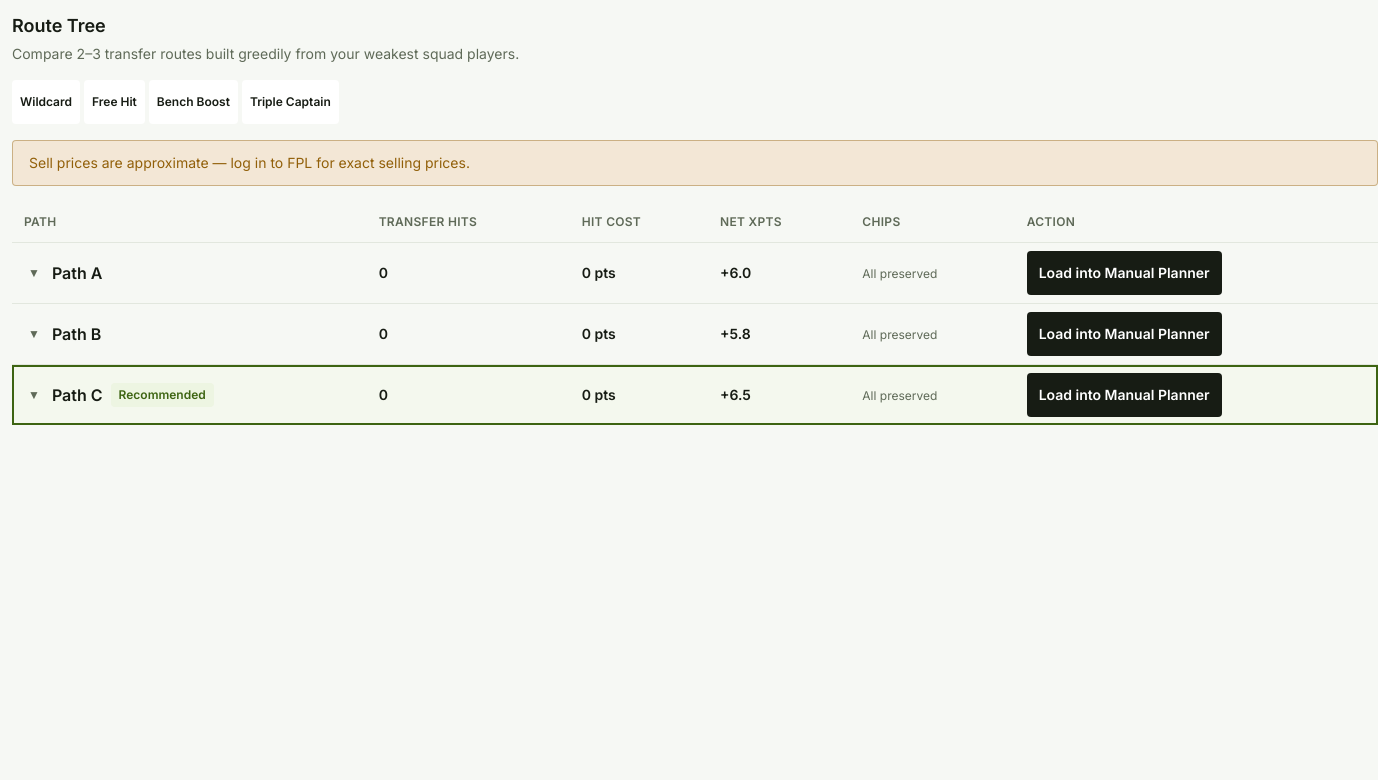
expand breakdown — TRT-03 › clicking path-expand-0 reveals path-breakdown-0; clicking again hides it
Click the button with test id "path-expand-0" at (34, 273), box [24, 251, 44, 295]
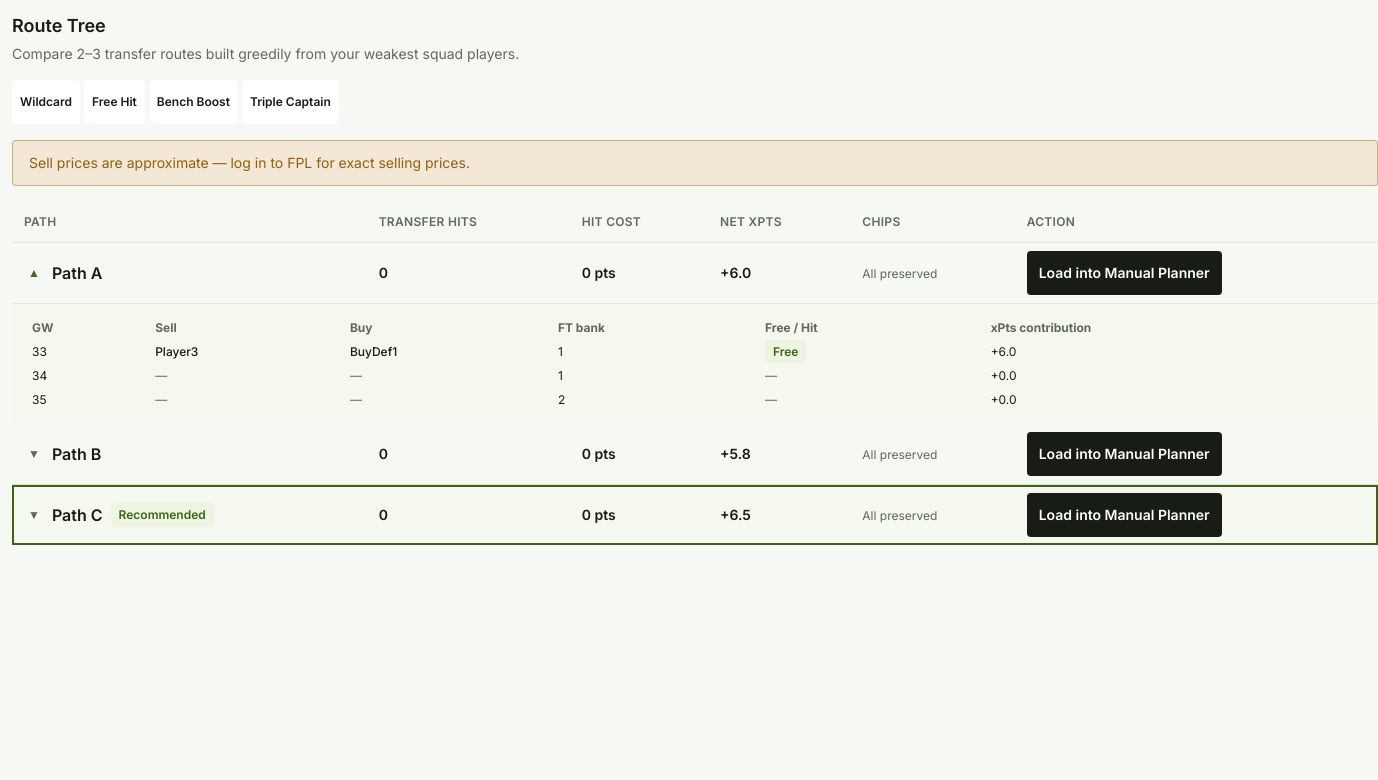
Now the row with test id "path-breakdown-0" is shown, box [12, 304, 1377, 424]
Click the button with test id "path-expand-0" at (34, 273), box [24, 251, 44, 295]
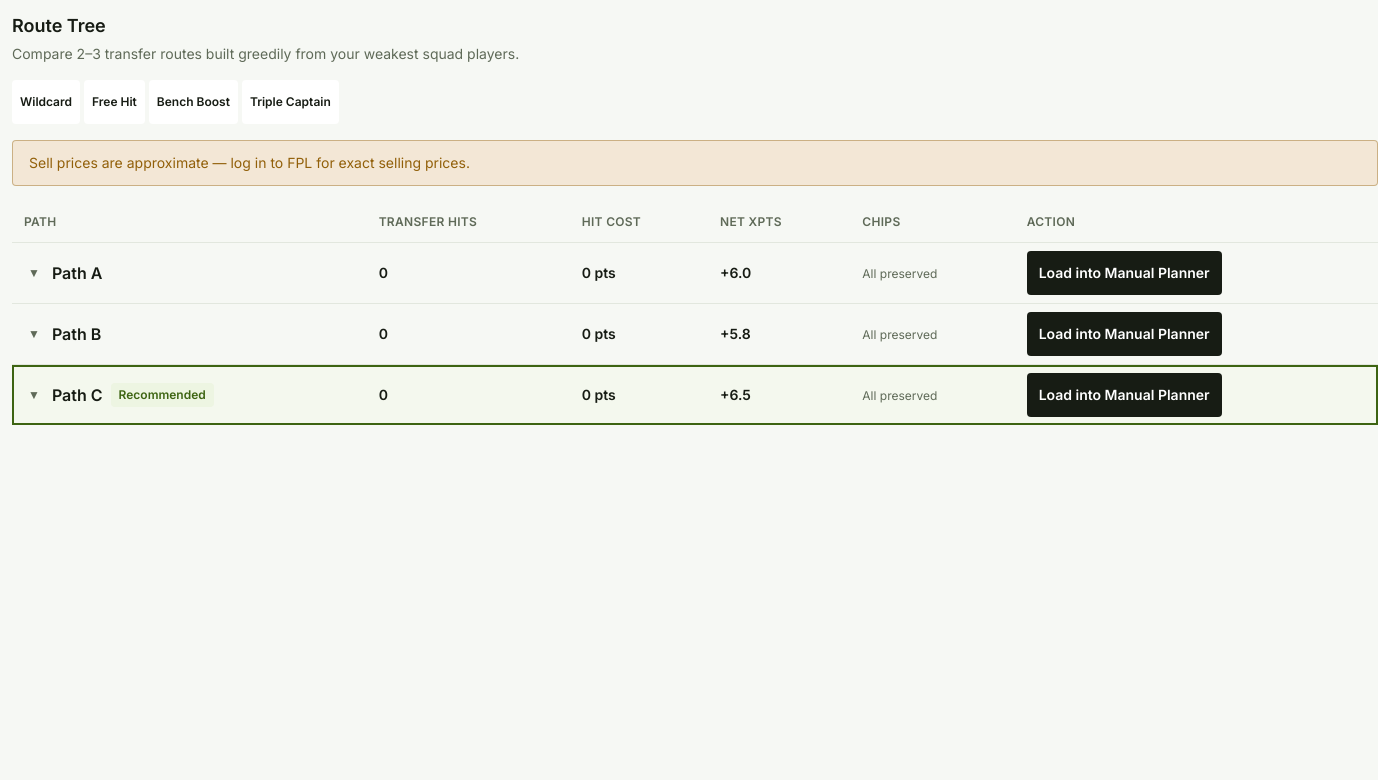
Now the row with test id "path-breakdown-0" is gone
